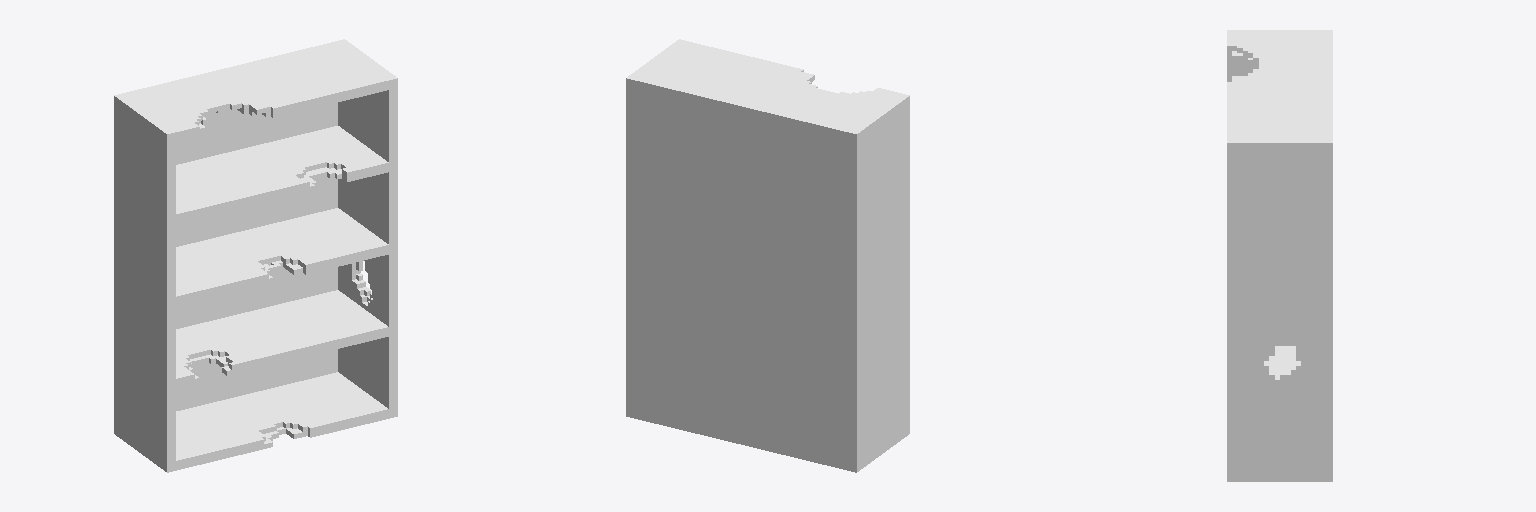
Rendered from Libreria_2_Rota_Union.obj.
The picture shows the model from 3 angles: view 1: azimuth 30°, elevation 25°; view 2: azimuth 150°, elevation 25°; view 3: azimuth 270°, elevation 25°; orthographic projection.
Visible parts, largest first — view 1: object 1; view 2: object 1; view 3: object 1.
Part boxes in pixels (x1,y1,x2,y2): object 1: (114, 39, 397, 472); object 1: (626, 39, 909, 472); object 1: (1227, 30, 1332, 481).
Bounding box in the file's own units: 5 × 7 × 2.